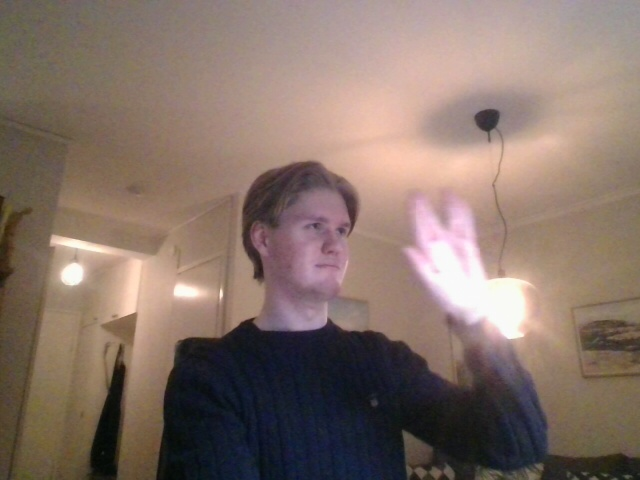LiveLong: (399, 191, 490, 311)
